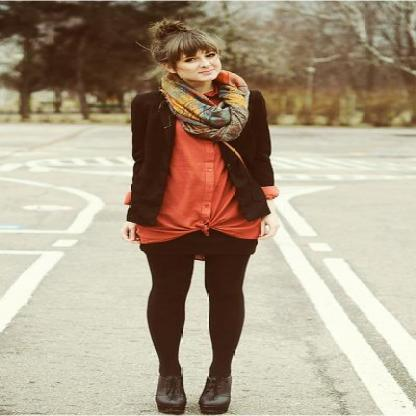jacket: (125, 91, 273, 224)
shirt: (131, 125, 278, 243)
shoe: (155, 371, 231, 415)
